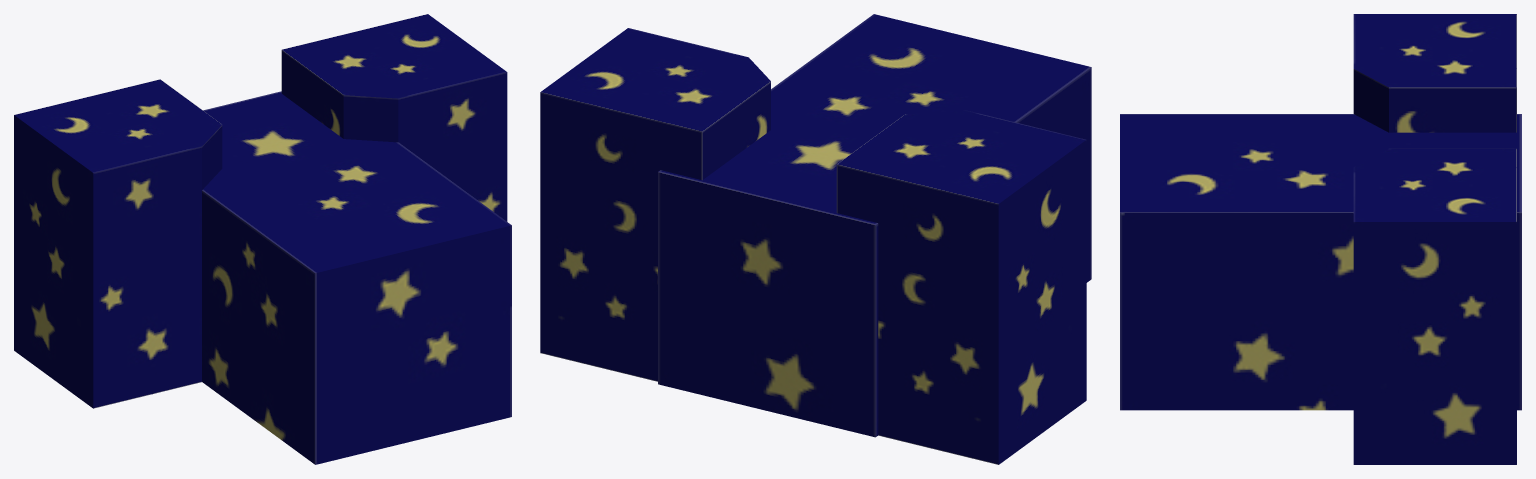
Rendered from taizi.fbx.
3 renders of one model, left to right at view 1: azimuth 30°, elevation 25°; view 2: azimuth 150°, elevation 25°; view 3: azimuth 270°, elevation 25°, orthographic. The views are drawn at different scales.
Parts seen in each view (by area): view 1: taizi; view 2: taizi; view 3: taizi.
Part boxes in pixels (x1,y1,x2,y2): taizi: (14, 14, 511, 464); taizi: (540, 14, 1091, 464); taizi: (1120, 14, 1521, 464).
Size of the model in its own units: 5594 by 3044 by 4565.
1 material, 1 textured.
